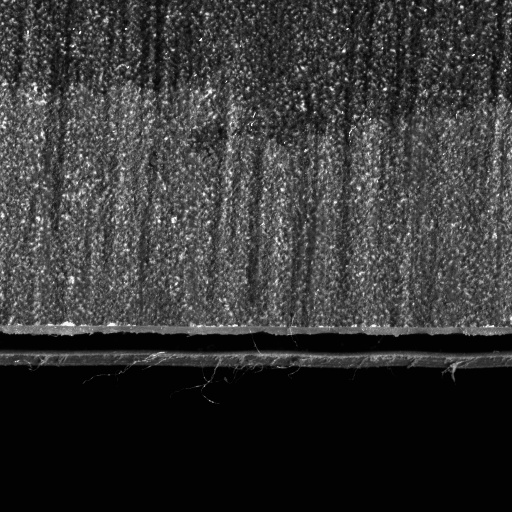kaijiao: (0, 320, 511, 372)
